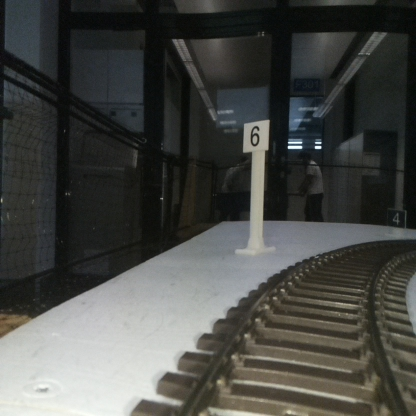white-info-6: (244, 120, 269, 251)
